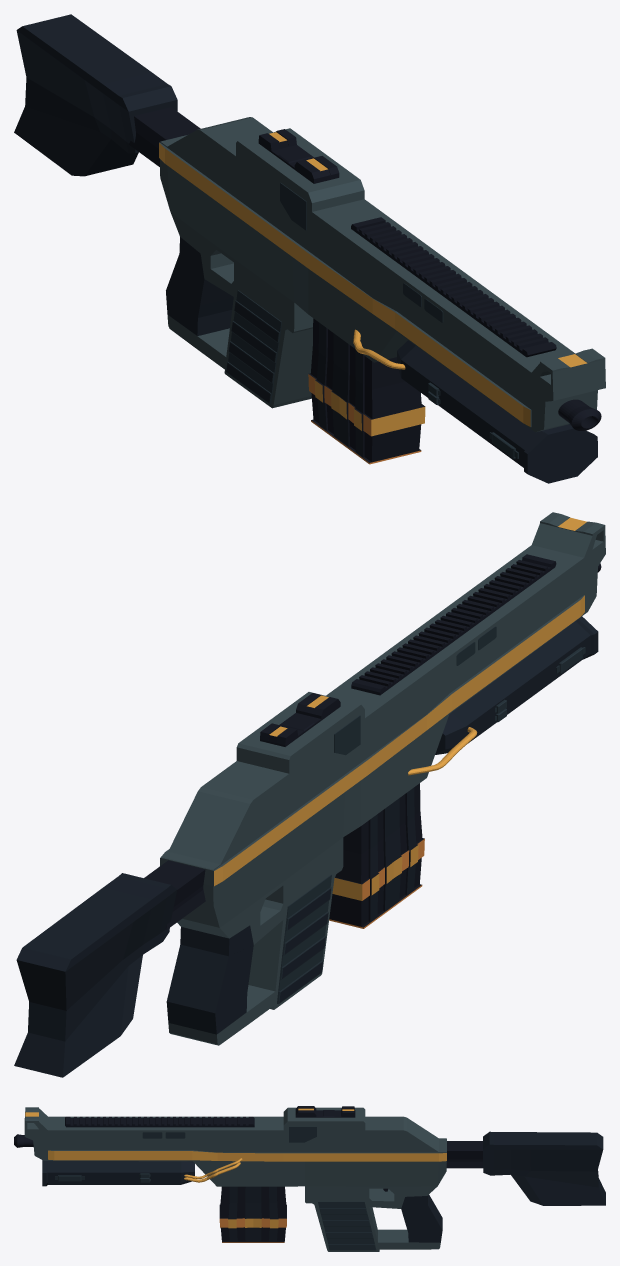
The model's file is gun.fbx.
3 views of the same model, one above another, from view 1: azimuth 30°, elevation 25°; view 2: azimuth 150°, elevation 25°; view 3: azimuth 270°, elevation 25° (orthographic). The views are drawn at different scales.
Parts seen in each view (by area): view 1: Gun, Magazine; view 2: Gun, Magazine; view 3: Gun, Magazine.
Boxes of the visible parts, <box> form: Gun: <box>14,14,605,483</box>; Magazine: <box>308,318,425,464</box>; Gun: <box>14,512,605,1077</box>; Magazine: <box>329,783,424,928</box>; Gun: <box>14,1106,605,1251</box>; Magazine: <box>219,1186,286,1242</box>.
Size of the model in its own units: 7.32 by 18.95 by 74.68.
